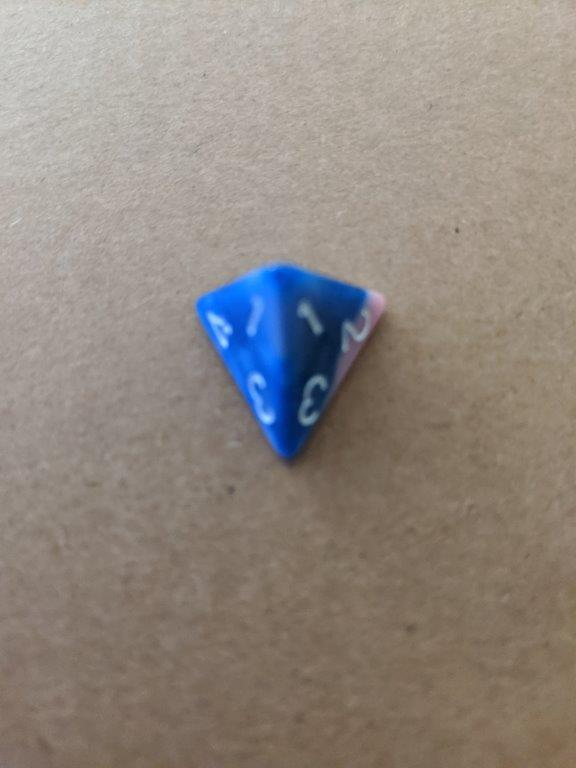d4-1: (189, 261, 392, 465)
